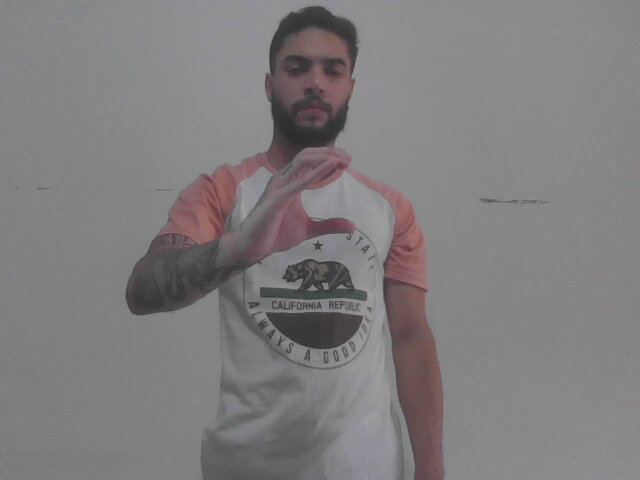c: (234, 144, 363, 269)
